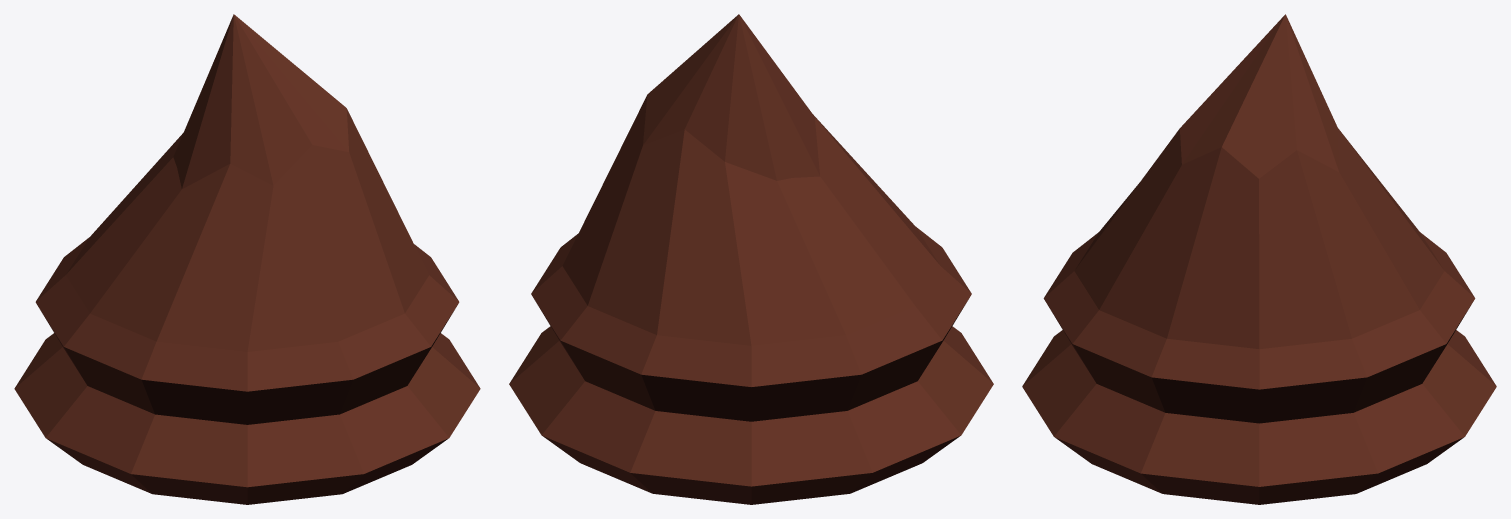
File: bolafantasma.fbx
3 renders of one model, left to right at view 1: azimuth 30°, elevation 25°; view 2: azimuth 150°, elevation 25°; view 3: azimuth 270°, elevation 25°, orthographic. The views are drawn at different scales.
Parts seen in each view (by area): view 1: Cone; view 2: Cone; view 3: Cone.
Part boxes in pixels (bbox=[...]): Cone: bbox=[14, 14, 480, 504]; Cone: bbox=[509, 14, 993, 504]; Cone: bbox=[1022, 14, 1496, 504].
Bounding box in the file's own units: 256 × 244 × 256.
